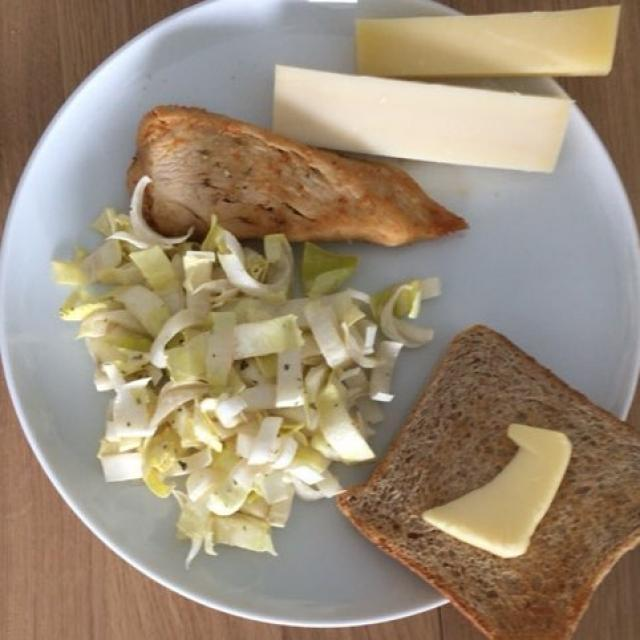bread: (354, 330, 632, 637), (134, 99, 490, 245)
butter: (422, 429, 582, 563)
cheese: (264, 11, 621, 184)
witloof-chicory: (64, 189, 424, 553)
